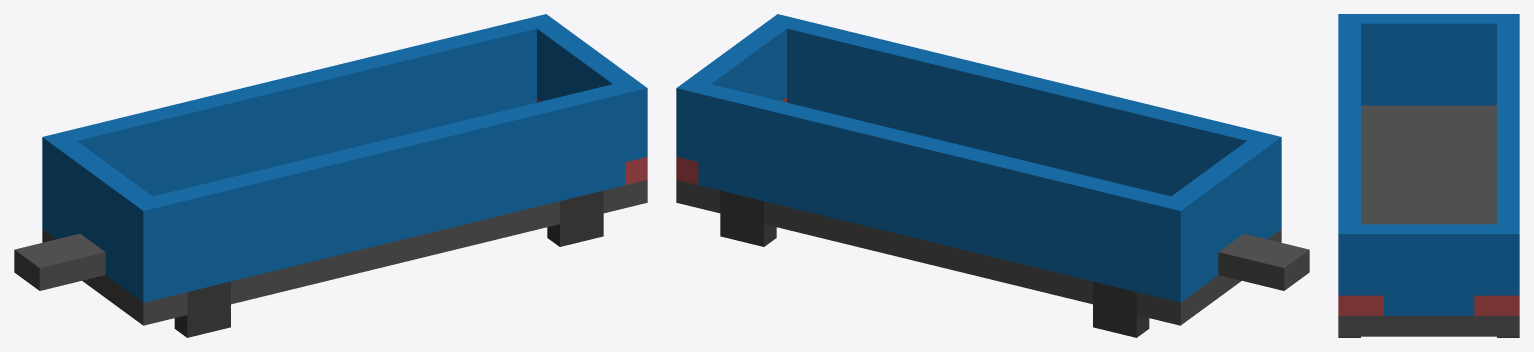
Rendered from tractor-trailer-v1-blue.gltf.
3 renders of one model, left to right at view 1: azimuth 30°, elevation 25°; view 2: azimuth 150°, elevation 25°; view 3: azimuth 270°, elevation 25°, orthographic. The views are drawn at different scales.
Parts seen in each view (by area): view 1: model, wheels; view 2: model, wheels; view 3: model.
Part boxes in pixels (bbox=[...]): model: bbox=[14, 14, 647, 337]; wheels: bbox=[174, 191, 603, 336]; model: bbox=[676, 14, 1309, 337]; wheels: bbox=[720, 192, 1149, 336]; model: bbox=[1338, 14, 1519, 337].
Bounding box in the file's own units: 2.6 × 0.6 × 0.8.
Materials: 2 (2 with a texture image).
